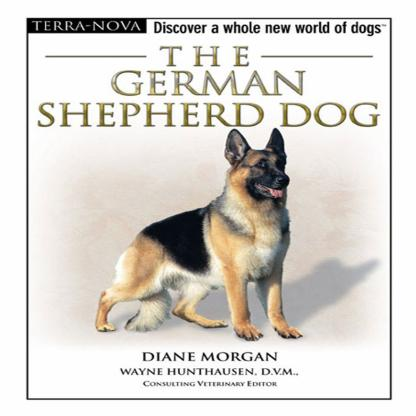dog: (93, 130, 308, 343)
